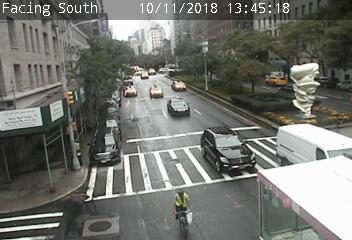car: (201, 127, 256, 172), (89, 128, 120, 163), (168, 98, 190, 116), (265, 76, 287, 86), (149, 85, 163, 98), (172, 80, 186, 92), (123, 85, 137, 97)
